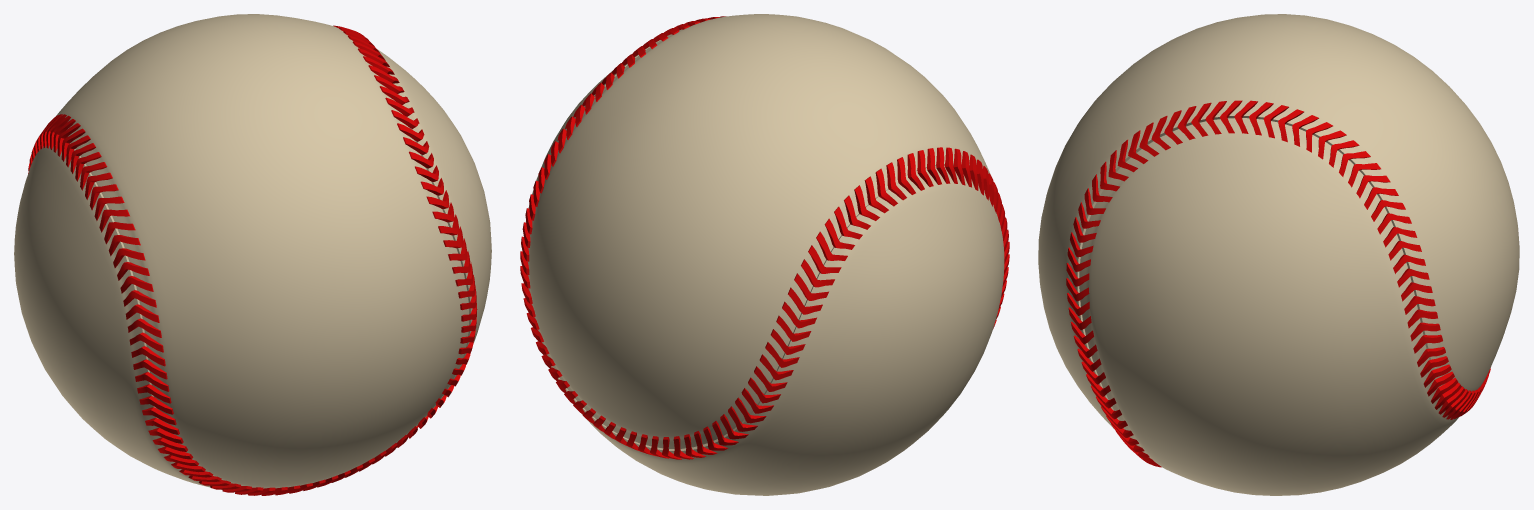
File: baseball.fbx
The picture shows the model from 3 angles, left to right: view 1: azimuth 30°, elevation 25°; view 2: azimuth 150°, elevation 25°; view 3: azimuth 270°, elevation 25°; orthographic projection.
Visible parts, largest first — view 1: baseball; view 2: baseball; view 3: baseball.
Part boxes in pixels (x1,y1,x2,y2): baseball: (14, 14, 491, 495); baseball: (520, 14, 1009, 495); baseball: (1038, 14, 1519, 495).
Bounding box in the file's own units: 7.29 × 7.3 × 7.29.
